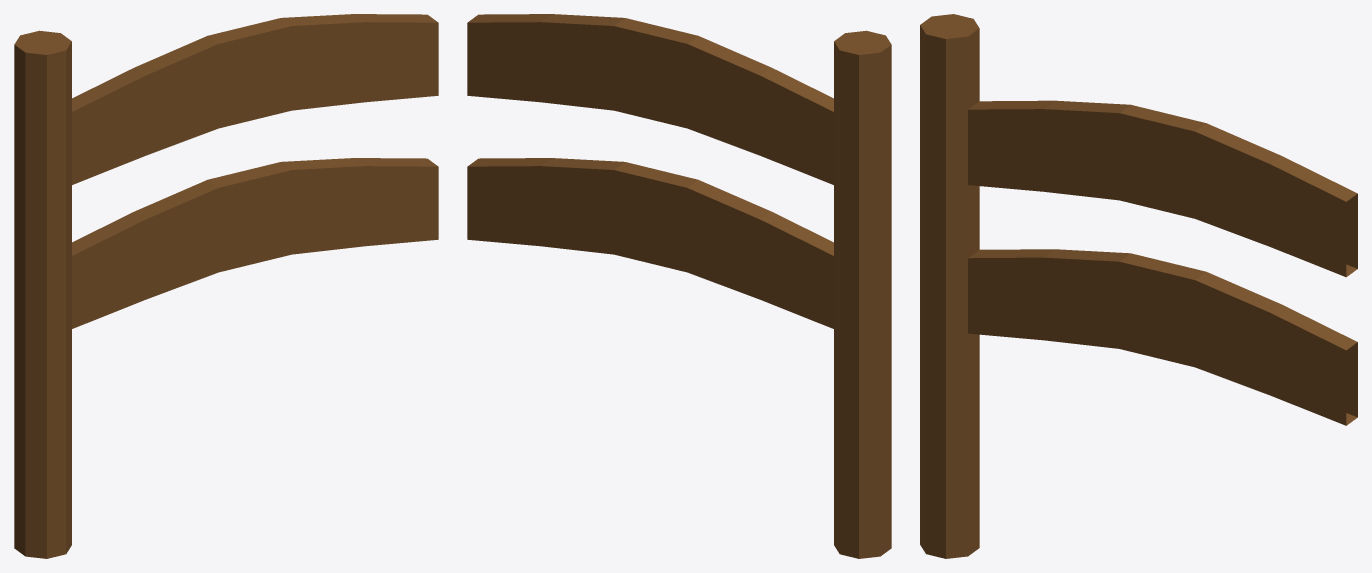
The model's file is fence1b.fbx.
The picture shows the model from 3 angles, left to right: view 1: azimuth 30°, elevation 25°; view 2: azimuth 150°, elevation 25°; view 3: azimuth 330°, elevation 25°; orthographic projection. The views are drawn at different scales.
Visible parts, largest first — view 1: fence1End; view 2: fence1End; view 3: fence1End.
Boxes of the visible parts, x1=… form: fence1End: x1=14, y1=14, x2=438, y2=558; fence1End: x1=467, y1=14, x2=891, y2=558; fence1End: x1=920, y1=14, x2=1357, y2=558.
Size of the model in its own units: 250 by 291 by 28.12.
